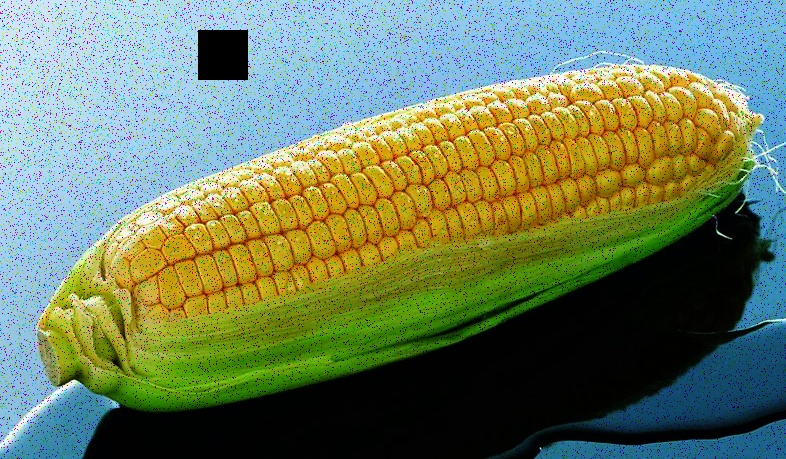corn: (43, 55, 748, 419)
